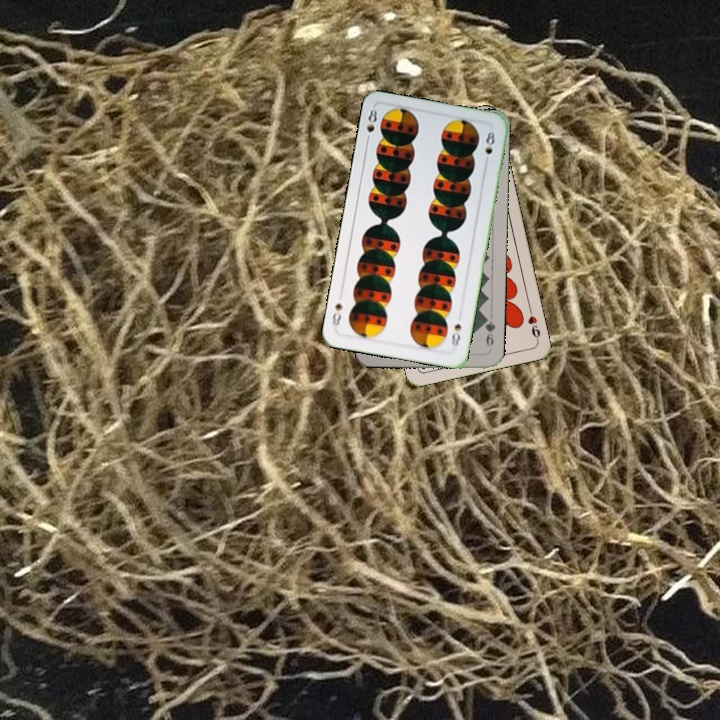G9: (480, 313, 498, 353)
H9: (524, 304, 543, 344)
S8: (361, 104, 380, 145), (447, 320, 464, 349)
